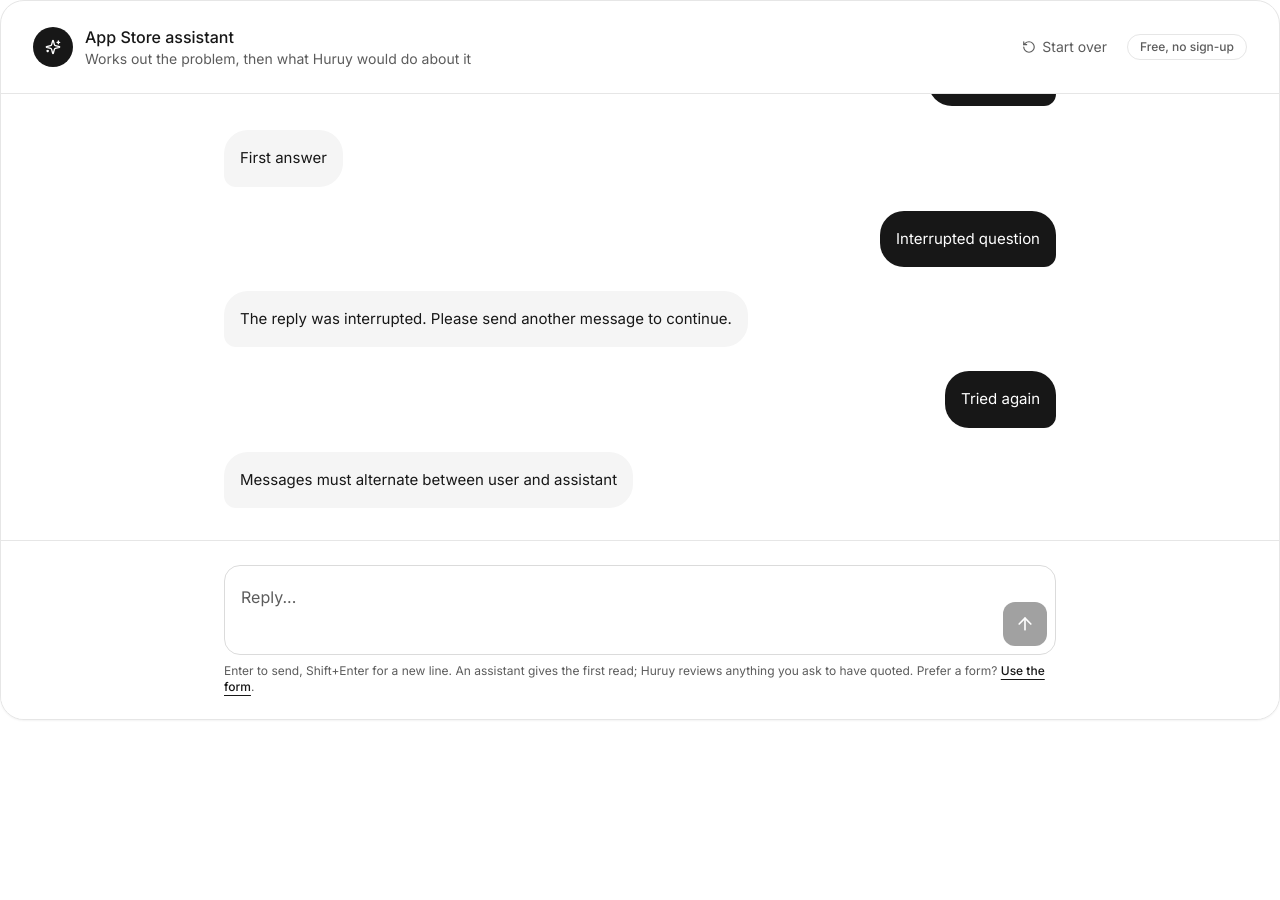
Test: RescueChat › repairs an already broken saved user/user transcript without losing earlier messages or lead status
(page scrolled)
In the text box named "Your message": (616, 610) left=241, top=574, right=991, bottom=646, type "Next question"
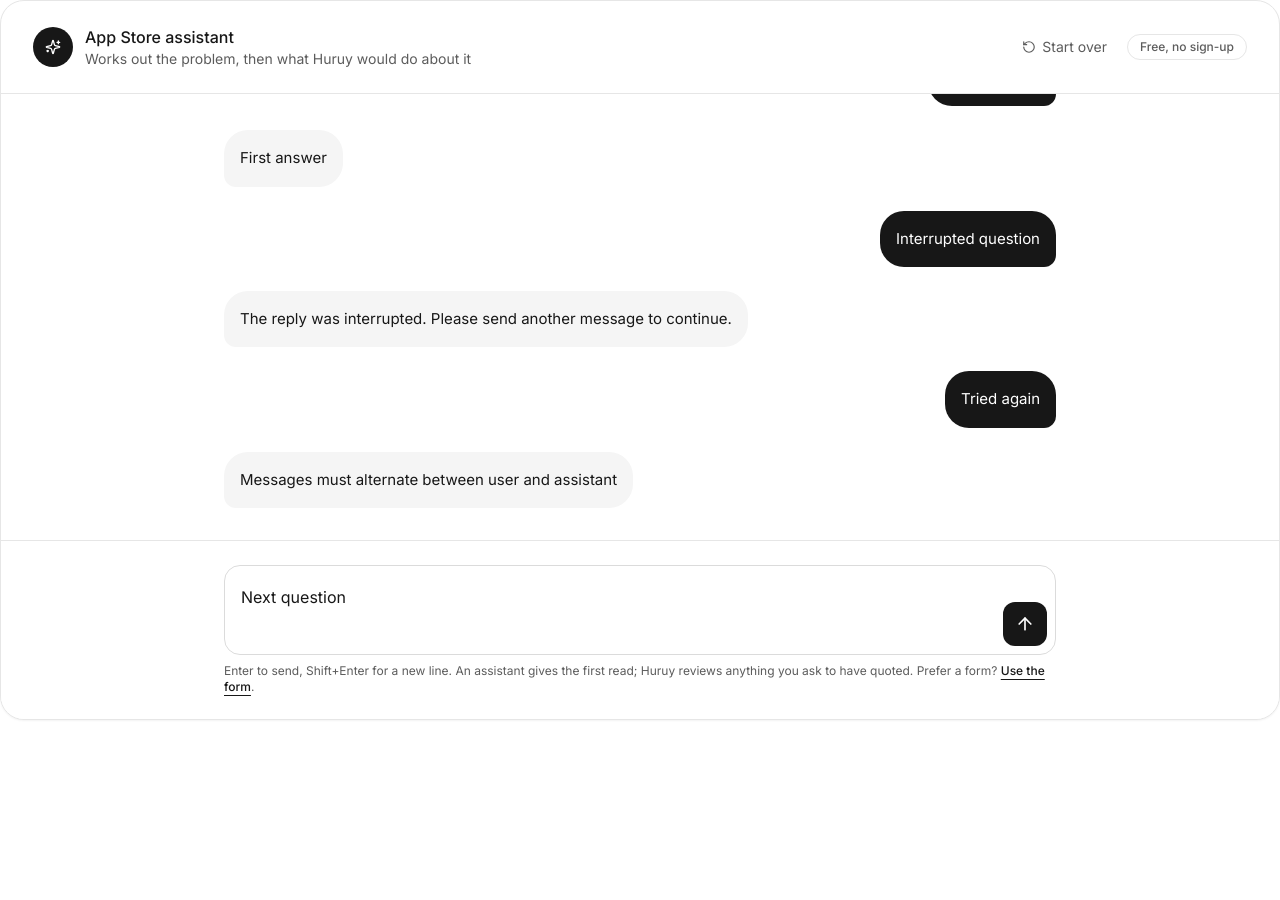
Press Enter in the text box named "Your message", box left=241, top=574, right=991, bottom=646
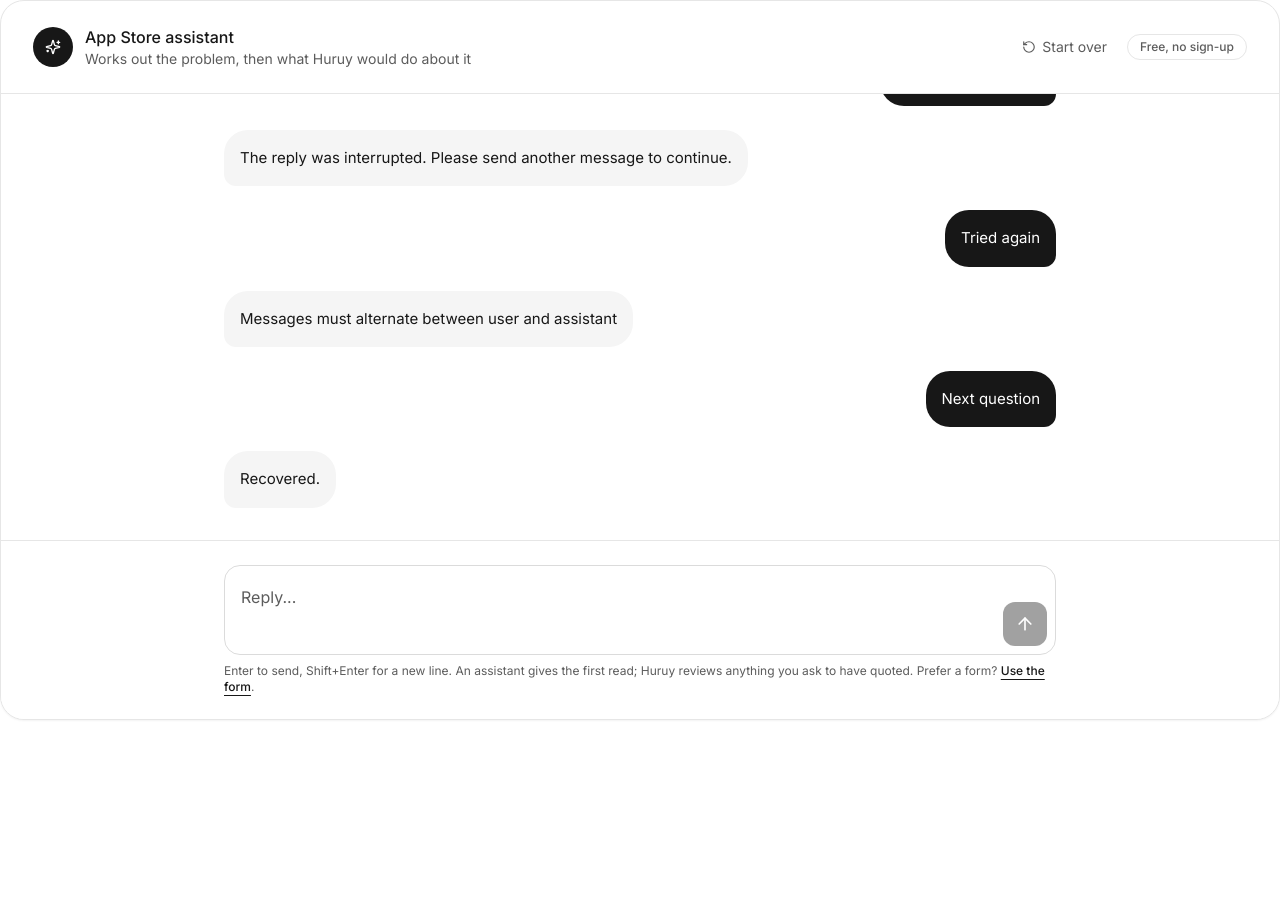
Check: the text "Recovered." is shown, box left=240, top=467, right=320, bottom=492
